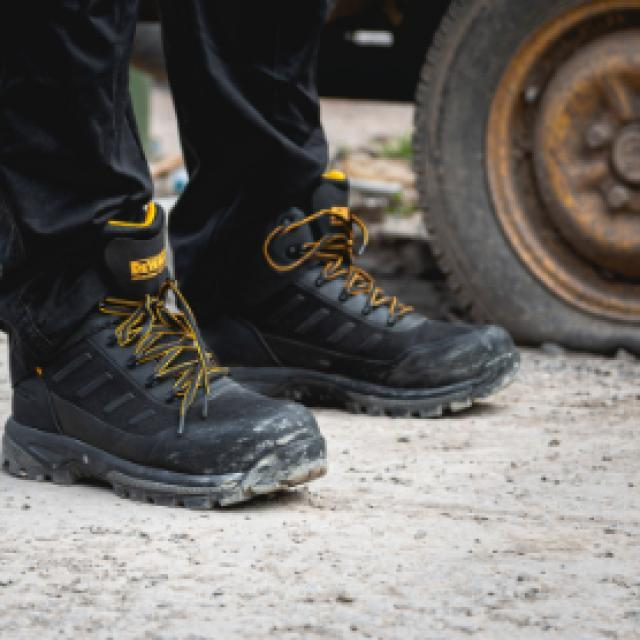shoes: (0, 158, 516, 511)
